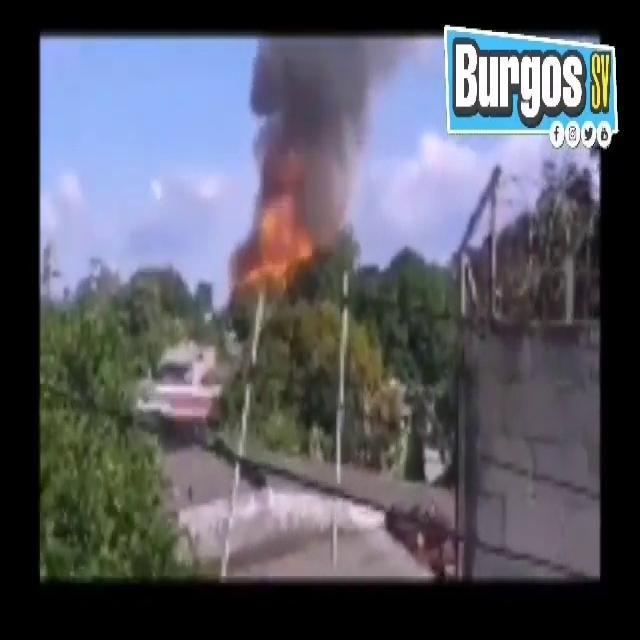Fire: (232, 202, 318, 282)
Smoke: (244, 35, 385, 212)
